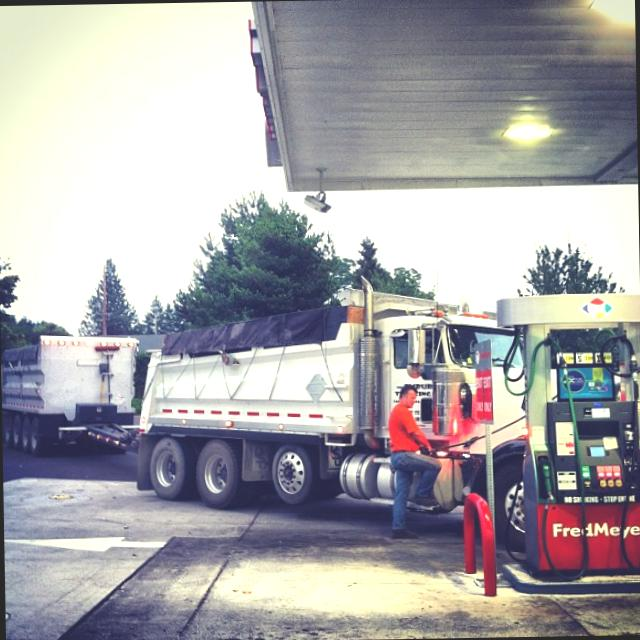Vehicle: (127, 274, 528, 552)
